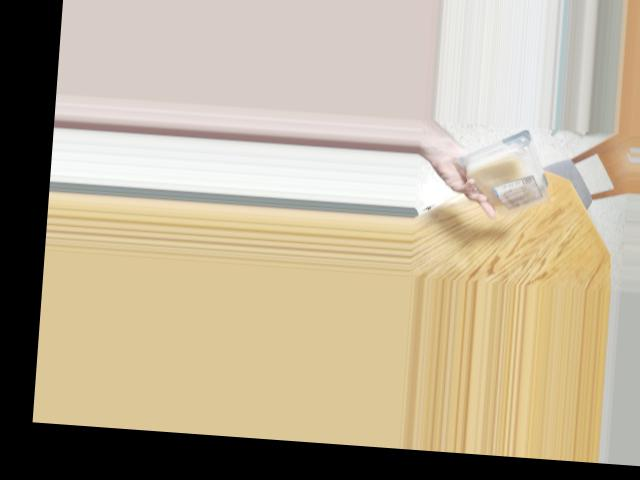cheese: (454, 132, 553, 203)
